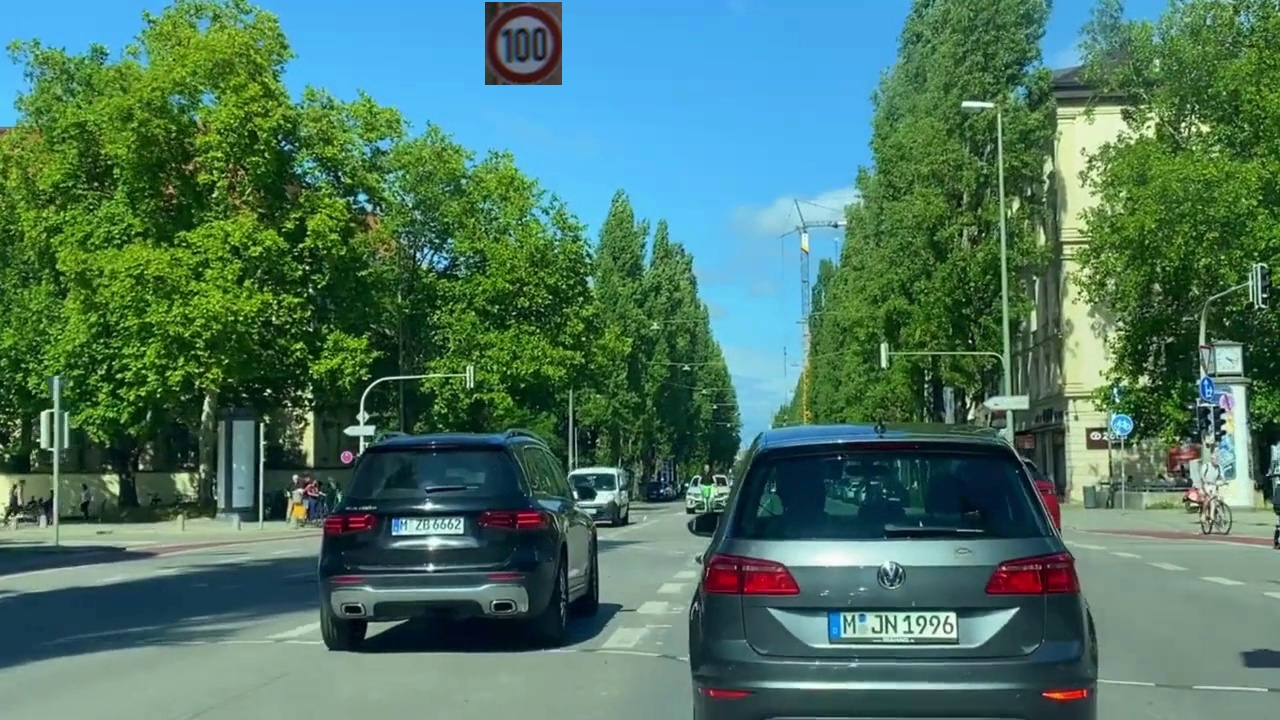Speed 100: (485, 2, 562, 85)
